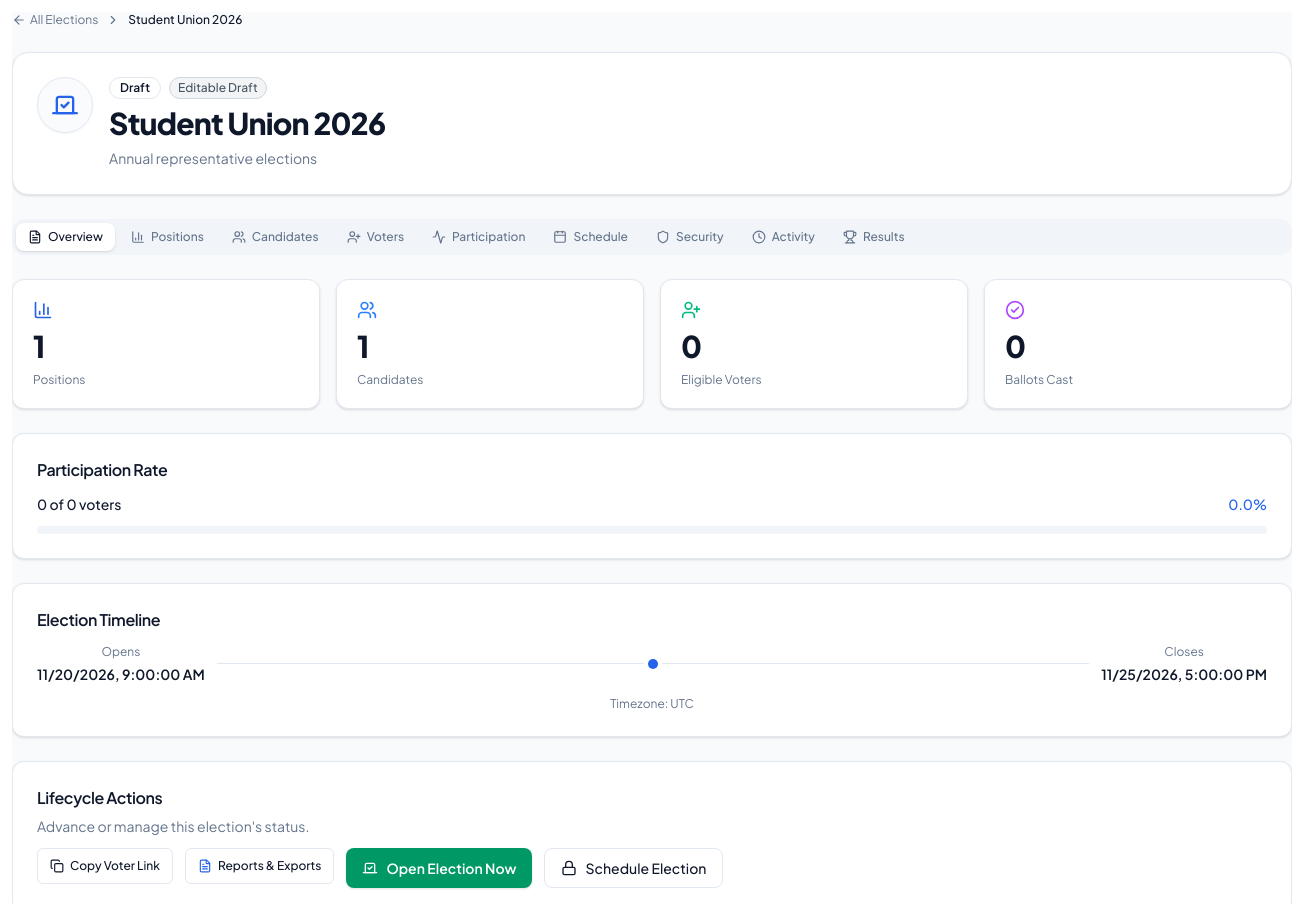
Scenario: Election Pages & Lifecycle UI › renders candidate photo and shows photo upload in ElectionDetailPage candidates tab
Expected: the heading "Student Union 2026" is shown, [109, 105, 385, 141]
# Switch to candidates tab
What coordinates should you click on to do the following:
click the tab "Candidates"
I would click on:
 (275, 237)
Its box is [220, 223, 331, 251].
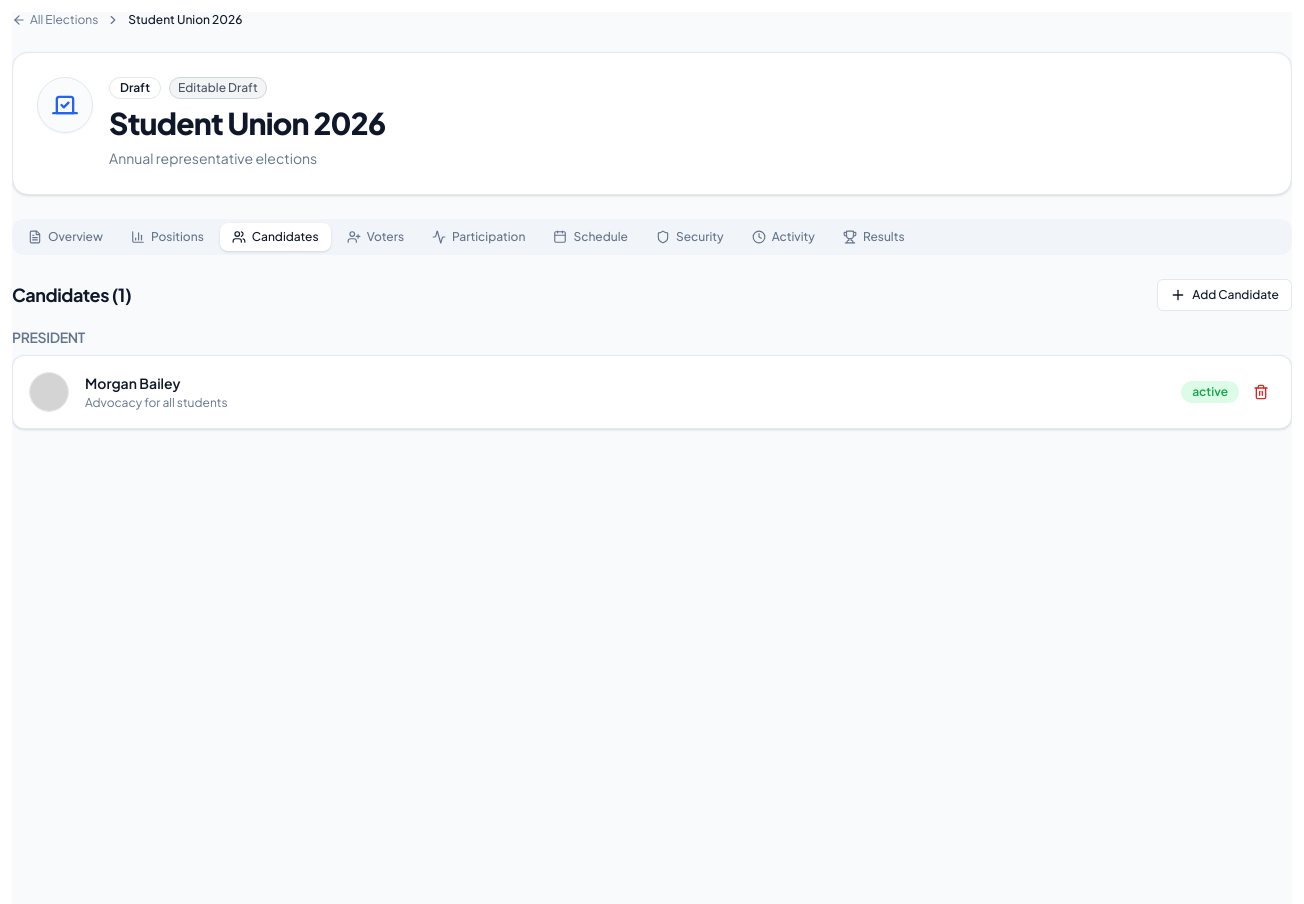
# Click "Add Candidate" button to open inline candidate form
What coordinates should you click on to do the following:
click the button "Add Candidate"
I would click on:
 (1225, 295)
Its box is [1157, 279, 1292, 311].
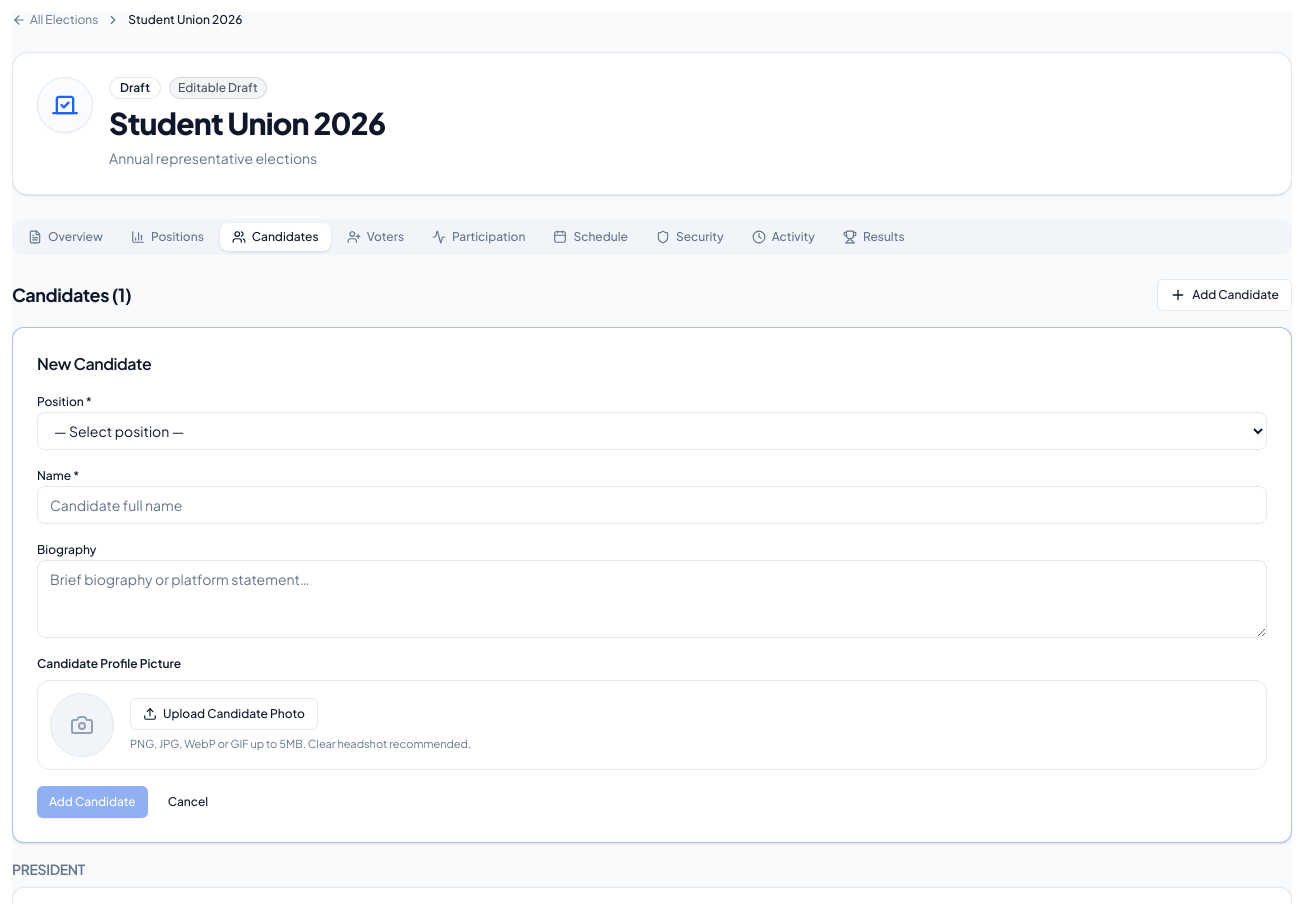
Expected: the text "Candidate Profile Picture" is shown, [37, 656, 181, 671]
Expected: the button "Upload Candidate Photo" is shown, [130, 698, 318, 730]
